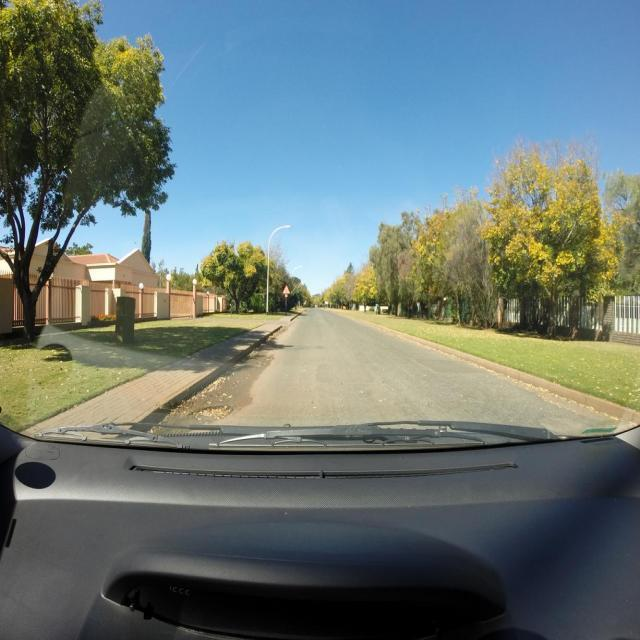Buraco: (187, 404, 236, 424)
